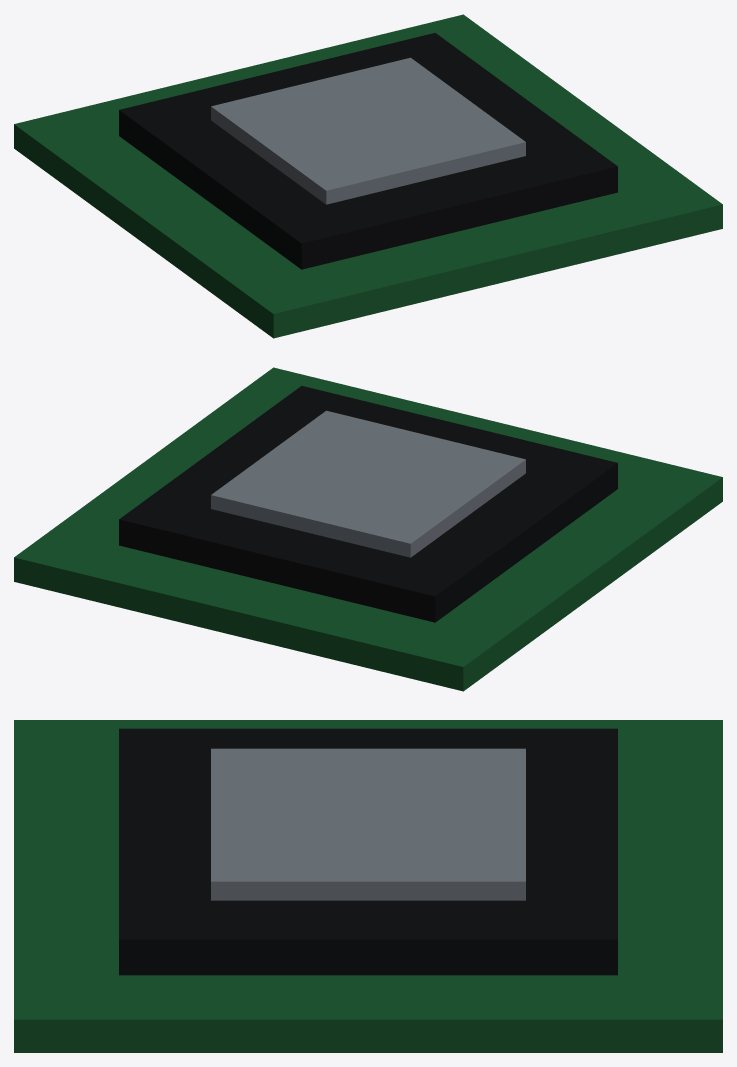
The model's file is L131_B760_CHIPSET.fbx.
The picture shows the model from 3 angles, top to bottom: view 1: azimuth 30°, elevation 25°; view 2: azimuth 150°, elevation 25°; view 3: azimuth 270°, elevation 25°; orthographic projection. The views are drawn at different scales.
Visible parts, largest first — view 1: B760_CHIPSET_Green, B760_CHIPSET_Black, B760_CHIPSET_Steel; view 2: B760_CHIPSET_Green, B760_CHIPSET_Black, B760_CHIPSET_Steel; view 3: B760_CHIPSET_Green, B760_CHIPSET_Black, B760_CHIPSET_Steel.
Boxes of the visible parts, x1,y1,x2,y2 form: B760_CHIPSET_Green: [14, 14, 722, 338]; B760_CHIPSET_Black: [119, 33, 617, 269]; B760_CHIPSET_Steel: [211, 57, 525, 204]; B760_CHIPSET_Green: [14, 367, 722, 691]; B760_CHIPSET_Black: [119, 386, 617, 622]; B760_CHIPSET_Steel: [211, 410, 525, 557]; B760_CHIPSET_Green: [14, 720, 722, 1052]; B760_CHIPSET_Black: [119, 728, 617, 975]; B760_CHIPSET_Steel: [211, 748, 525, 900].
Size of the model in its own units: 2.7 by 0.37 by 2.7.
